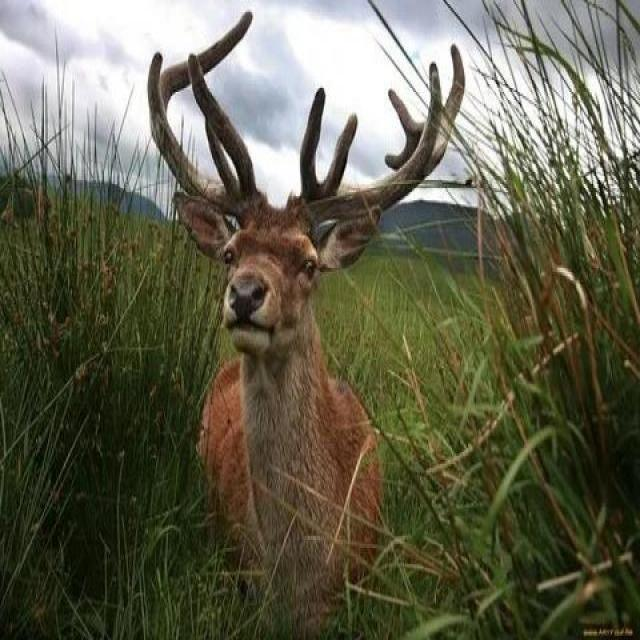deer: (157, 98, 446, 573)
